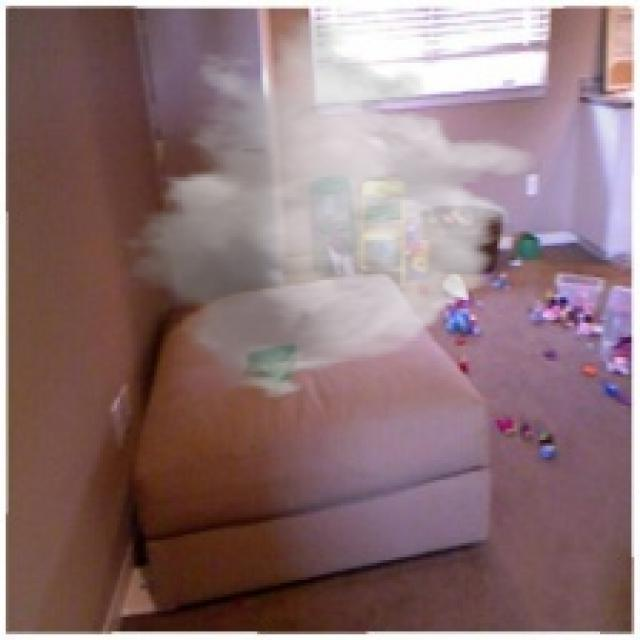Smoke: (117, 14, 543, 403)
